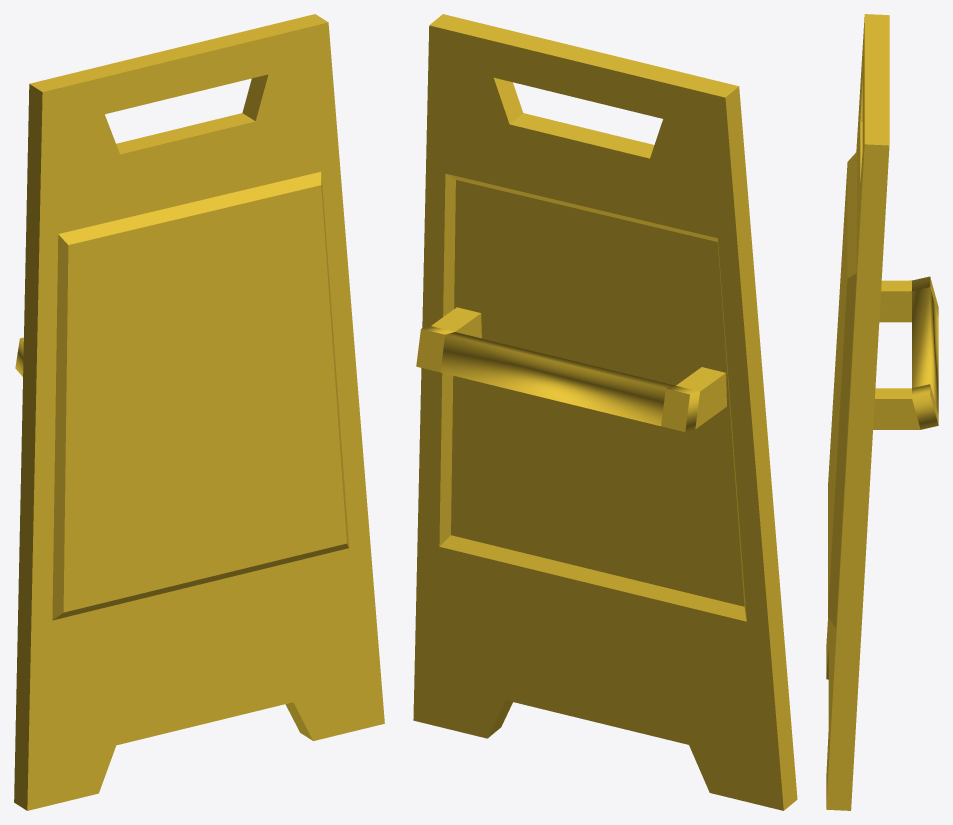
File: shield.fbx
The picture shows the model from 3 angles, left to right: view 1: azimuth 30°, elevation 25°; view 2: azimuth 150°, elevation 25°; view 3: azimuth 270°, elevation 25°; orthographic projection. The views are drawn at different scales.
Parts seen in each view (by area): view 1: SM_Prop_Sign_Wetfloor_01; view 2: SM_Prop_Sign_Wetfloor_01, SM_Prop_Sign_Wetfloor_01.001, SM_Prop_Sign_Wetfloor_01.002; view 3: SM_Prop_Sign_Wetfloor_01, SM_Prop_Sign_Wetfloor_01.001, SM_Prop_Sign_Wetfloor_01.002.
Boxes of the visible parts, bbox=[...] form: SM_Prop_Sign_Wetfloor_01: bbox=[14, 14, 384, 810]; SM_Prop_Sign_Wetfloor_01: bbox=[413, 14, 797, 810]; SM_Prop_Sign_Wetfloor_01.001: bbox=[440, 332, 726, 432]; SM_Prop_Sign_Wetfloor_01.002: bbox=[416, 307, 481, 372]; SM_Prop_Sign_Wetfloor_01: bbox=[826, 14, 889, 810]; SM_Prop_Sign_Wetfloor_01.001: bbox=[879, 276, 938, 413]; SM_Prop_Sign_Wetfloor_01.002: bbox=[873, 384, 938, 429].
Bounding box in the file's own units: 42.95 × 79.93 × 12.52.
